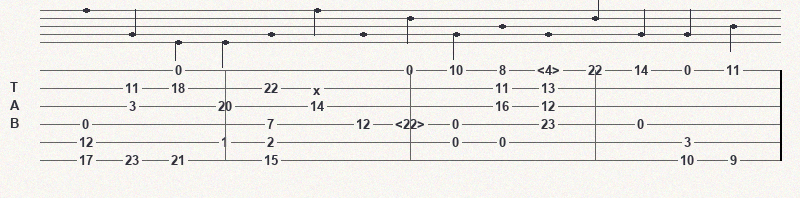0: (82, 117, 93, 131), (175, 63, 186, 77), (406, 63, 417, 77), (452, 135, 463, 149), (452, 117, 463, 131), (499, 135, 510, 149), (637, 117, 648, 131), (684, 63, 695, 77)
1: (221, 135, 232, 149)
10: (449, 63, 467, 77), (680, 153, 698, 167)
11: (125, 81, 143, 95), (495, 81, 513, 95), (726, 63, 744, 77)
12: (79, 135, 97, 149), (356, 117, 374, 131), (541, 99, 559, 113)
13: (541, 81, 559, 95)
14: (310, 99, 328, 113), (634, 63, 652, 77)
15: (264, 153, 282, 167)
16: (495, 99, 513, 113)
17: (79, 153, 97, 167)
18: (171, 81, 189, 95)
2: (267, 135, 278, 149)
20: (218, 99, 236, 113)
21: (171, 153, 189, 167)
22: (264, 81, 282, 95), (588, 63, 606, 77)
23: (125, 153, 143, 167), (541, 117, 559, 131)
3: (129, 99, 140, 113), (684, 135, 695, 149)
7: (267, 117, 278, 131)
8: (499, 63, 510, 77)
9: (730, 153, 741, 167)
harmonic: (395, 117, 429, 131), (537, 63, 564, 77)
x: (313, 83, 325, 94)
